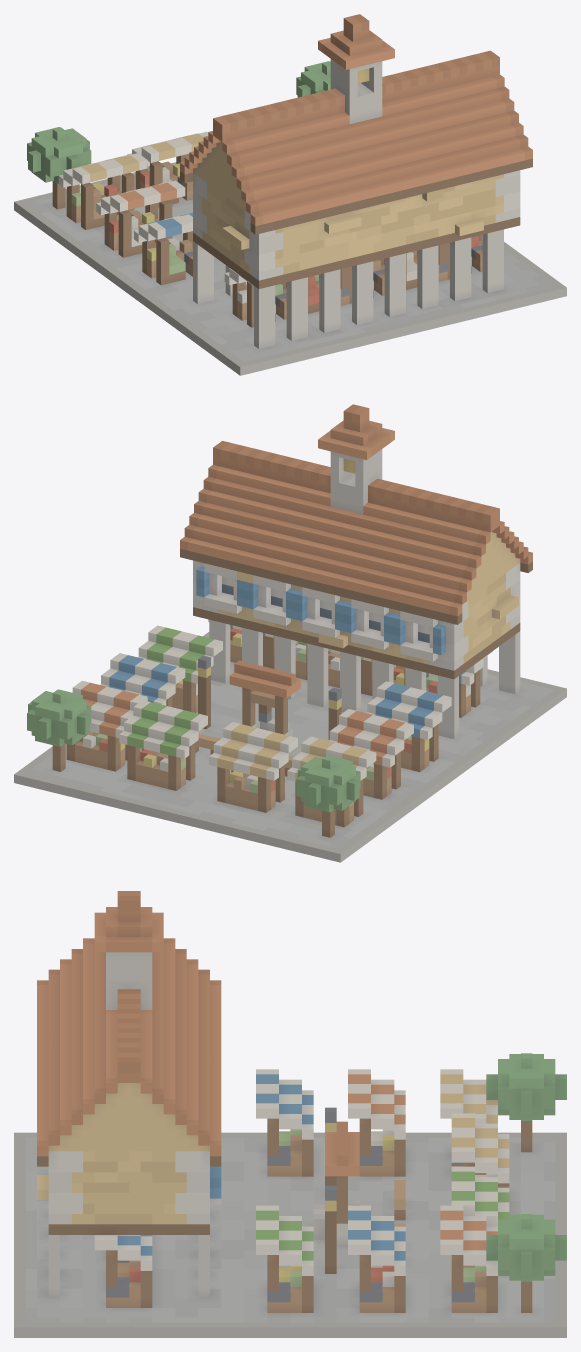
The model's file is market.l3.glb.
3 views of the same model, one above another, from view 1: azimuth 30°, elevation 25°; view 2: azimuth 150°, elevation 25°; view 3: azimuth 270°, elevation 25° (orthographic). The views are drawn at different scales.
Parts seen in each view (by area): view 1: market; view 2: market; view 3: market.
Part boxes in pixels (bbox=[...]): market: bbox=[14, 14, 566, 375]; market: bbox=[14, 404, 566, 862]; market: bbox=[14, 891, 566, 1337].
Bounding box in the file's own units: 5 × 4.12 × 6.
